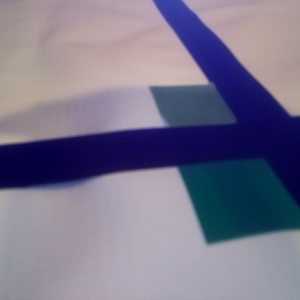bottom_left: (179, 127, 300, 243)
top_left: (149, 83, 258, 156)
